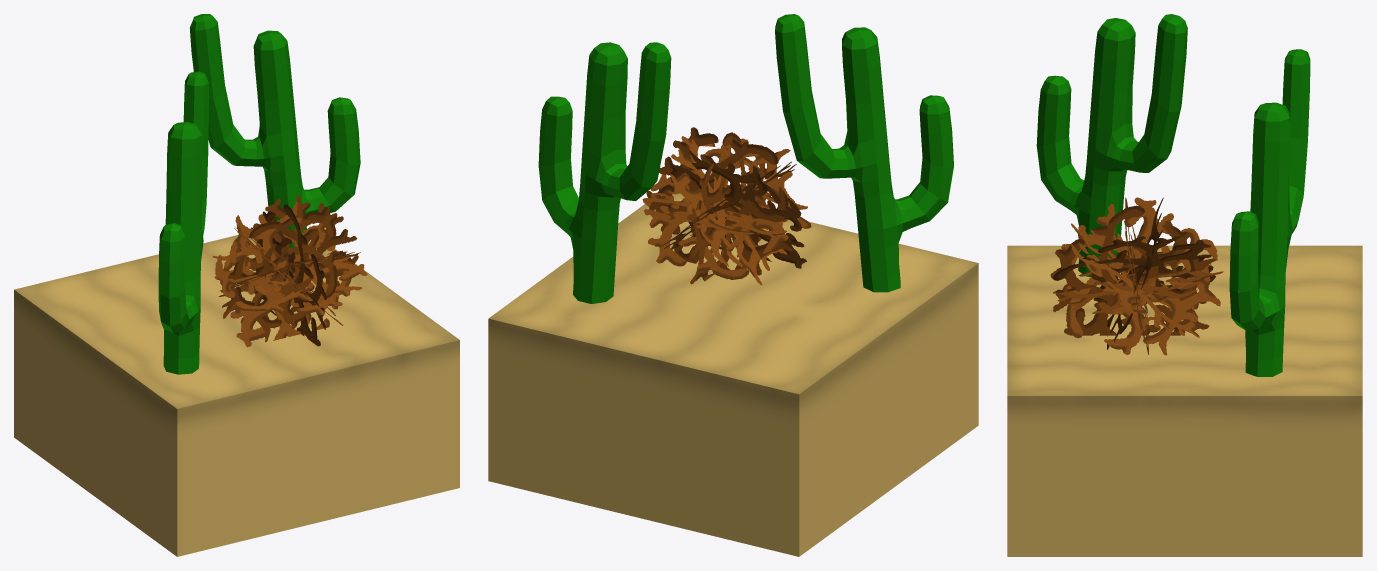
File: Egypt_Decor_2.fbx
3 views of the same model, side by side, from view 1: azimuth 30°, elevation 25°; view 2: azimuth 150°, elevation 25°; view 3: azimuth 270°, elevation 25° (orthographic). The views are drawn at different scales.
Visible parts, largest first — view 1: Egypt_Decor_2; view 2: Egypt_Decor_2; view 3: Egypt_Decor_2.
Part boxes in pixels (x1,y1,x2,y2): Egypt_Decor_2: (14, 14, 459, 556); Egypt_Decor_2: (488, 14, 978, 556); Egypt_Decor_2: (1007, 14, 1362, 556).
Size of the model in its own units: 200 by 274 by 205.
